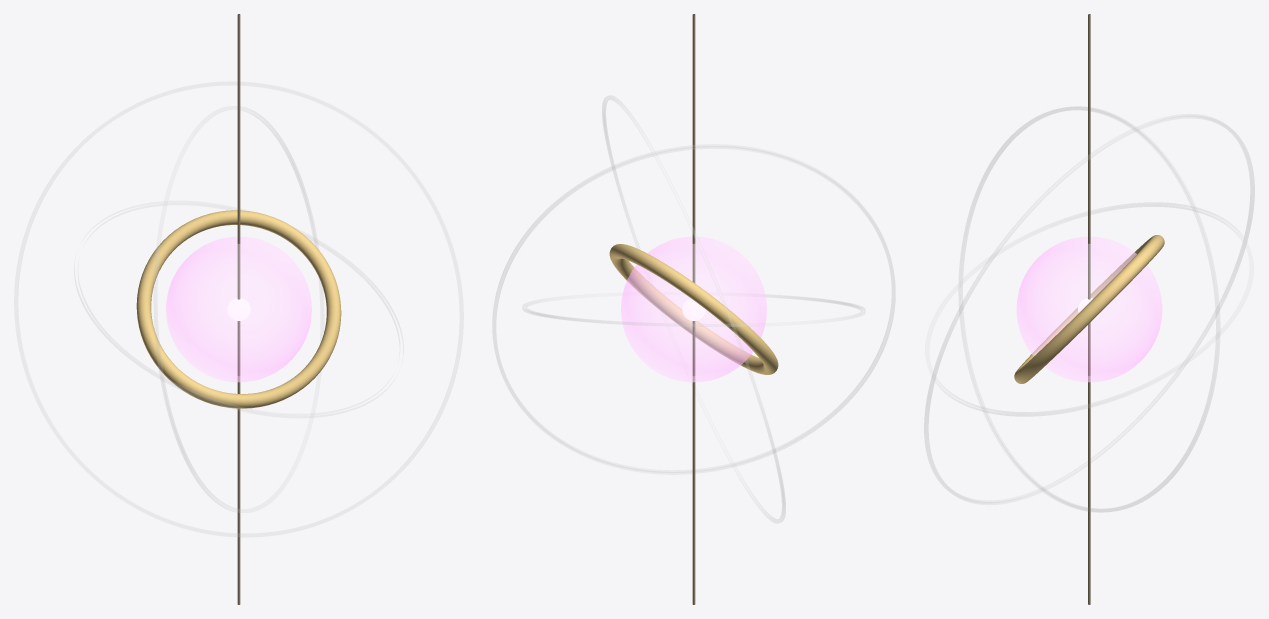
Rendered from orbital.glb.
3 renders of one model, left to right at view 1: azimuth 30°, elevation 25°; view 2: azimuth 150°, elevation 25°; view 3: azimuth 270°, elevation 25°, orthographic.
Parts seen in each view (by area): view 1: core, ring_gold, ring_glass_3, ring_glass_2, ring_glass_1, axis; view 2: core, ring_gold, ring_glass_2, ring_glass_3, axis, ring_glass_1; view 3: core, ring_glass_3, ring_glass_2, ring_gold, ring_glass_1, axis.
Boxes of the visible parts, x1,y1,x2,y2 form: core: [166, 236, 311, 382]; ring_gold: [136, 210, 341, 408]; ring_glass_3: [14, 81, 463, 537]; ring_glass_2: [153, 106, 324, 512]; ring_glass_1: [74, 201, 403, 417]; axis: [237, 14, 240, 604]; core: [621, 236, 766, 382]; ring_gold: [609, 244, 778, 374]; ring_glass_2: [492, 144, 895, 474]; ring_glass_3: [602, 95, 785, 523]; axis: [692, 14, 695, 604]; ring_glass_1: [522, 293, 865, 326]; core: [1016, 236, 1162, 382]; ring_glass_3: [924, 114, 1254, 504]; ring_glass_2: [958, 106, 1220, 512]; ring_gold: [1014, 235, 1164, 383]; ring_glass_1: [925, 202, 1253, 416]; axis: [1088, 14, 1090, 604].
Bounding box in the file's own units: 2.63 × 4.9 × 2.49.
